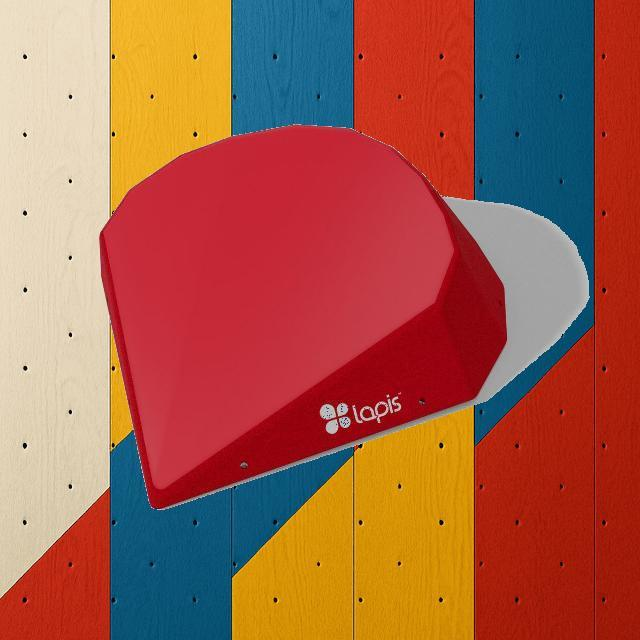Volume: (99, 120, 508, 510)
